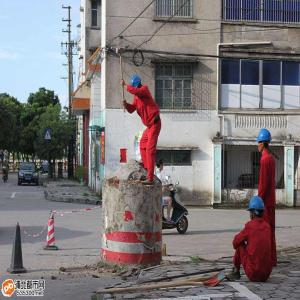blue: (249, 197, 265, 225), (256, 130, 272, 156), (131, 75, 143, 94)
